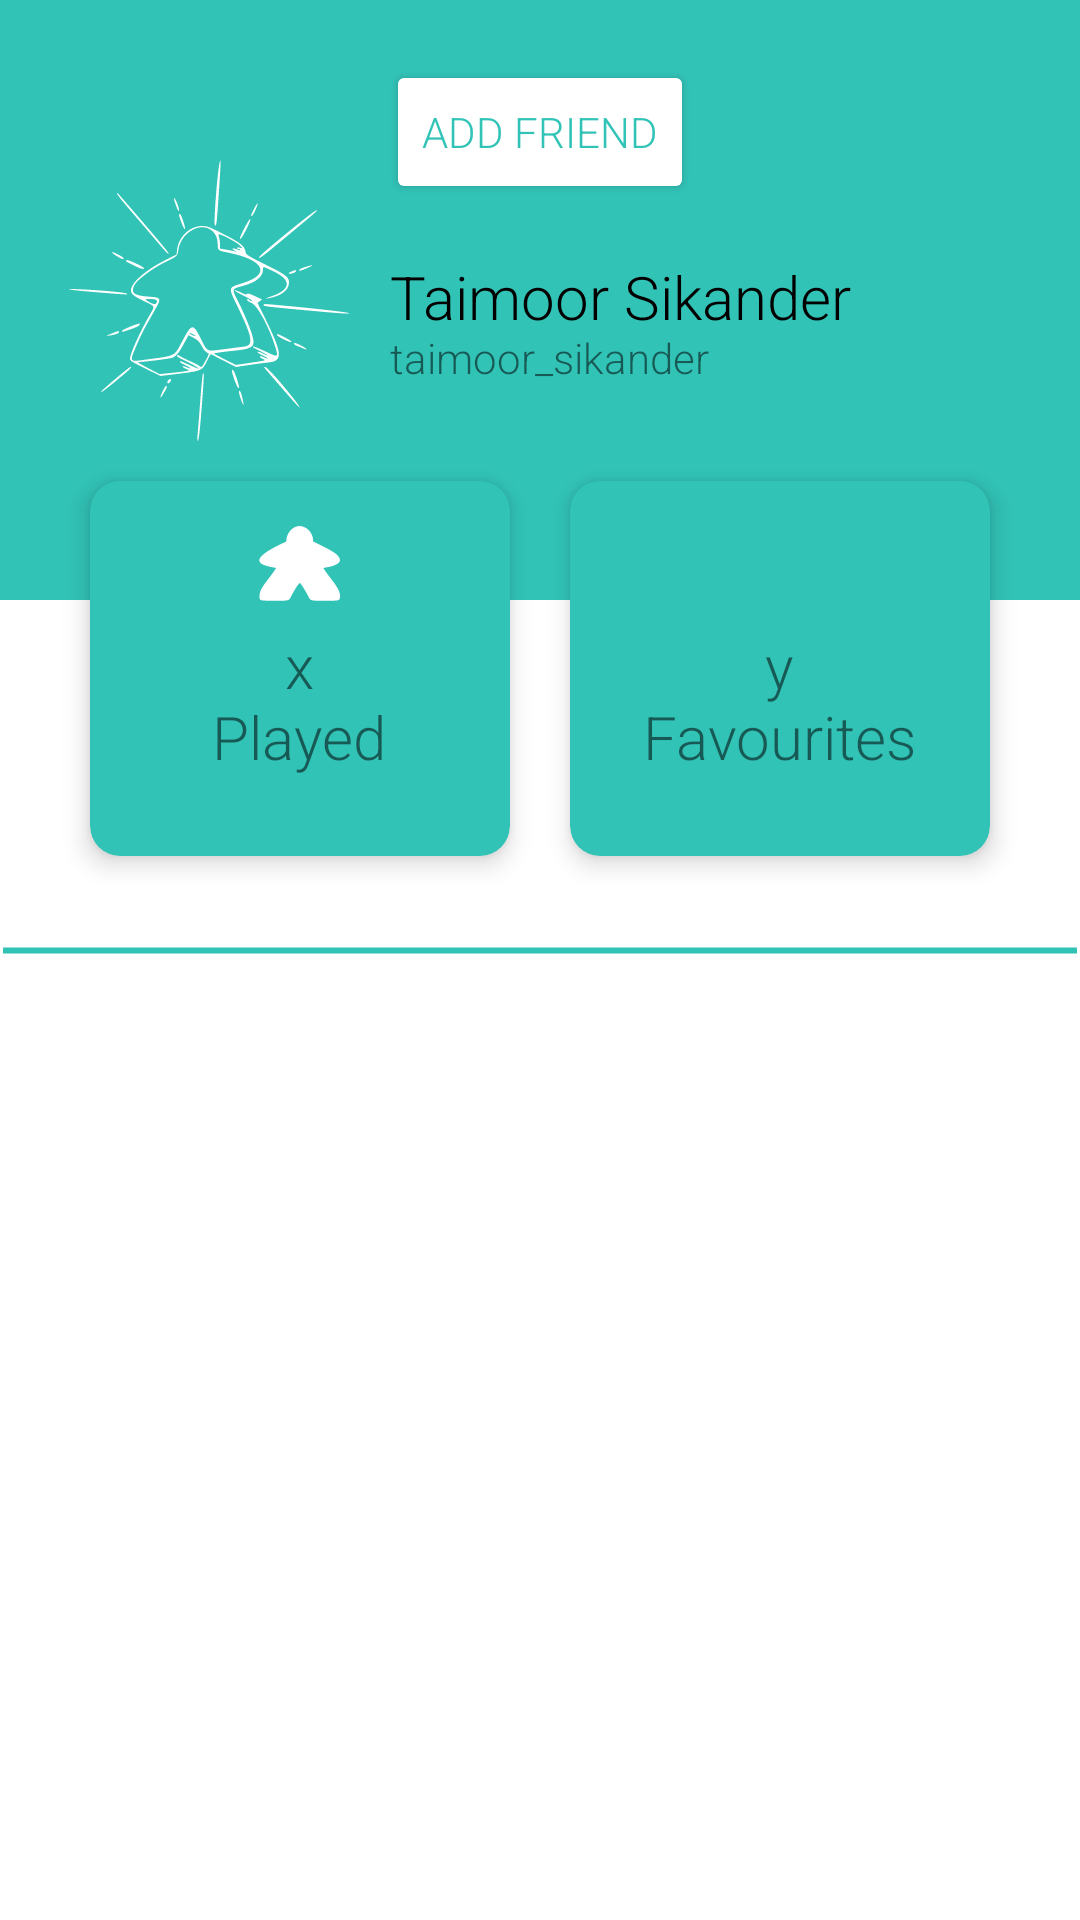

Screen size 1080px x 1920px. Icon name, then its center in pixels as point (x, y):
meeple: point (299, 563)
sparkling meeple profile: point (209, 300)
